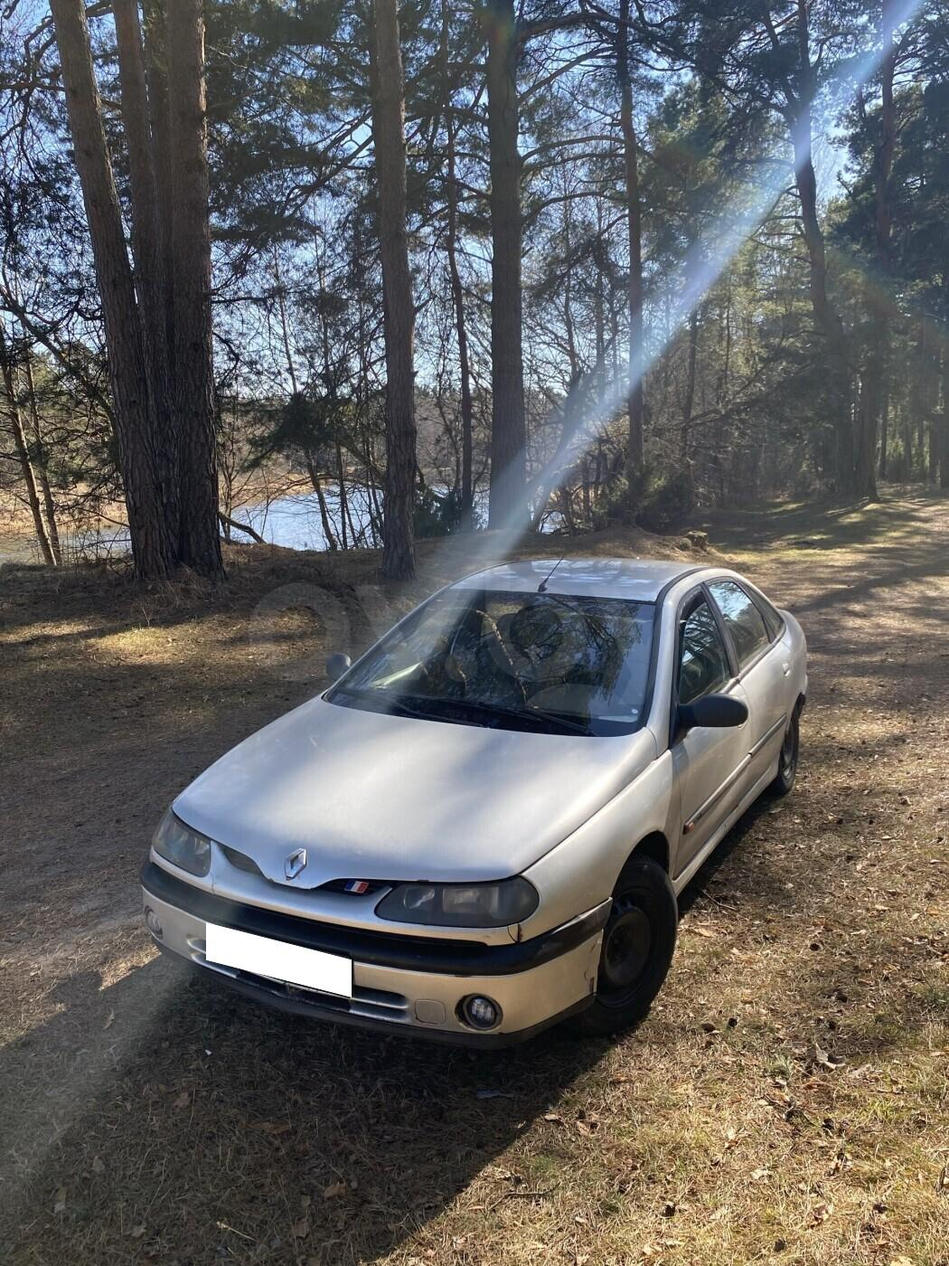Laguna_1998-2001: (141, 553, 808, 1042)
